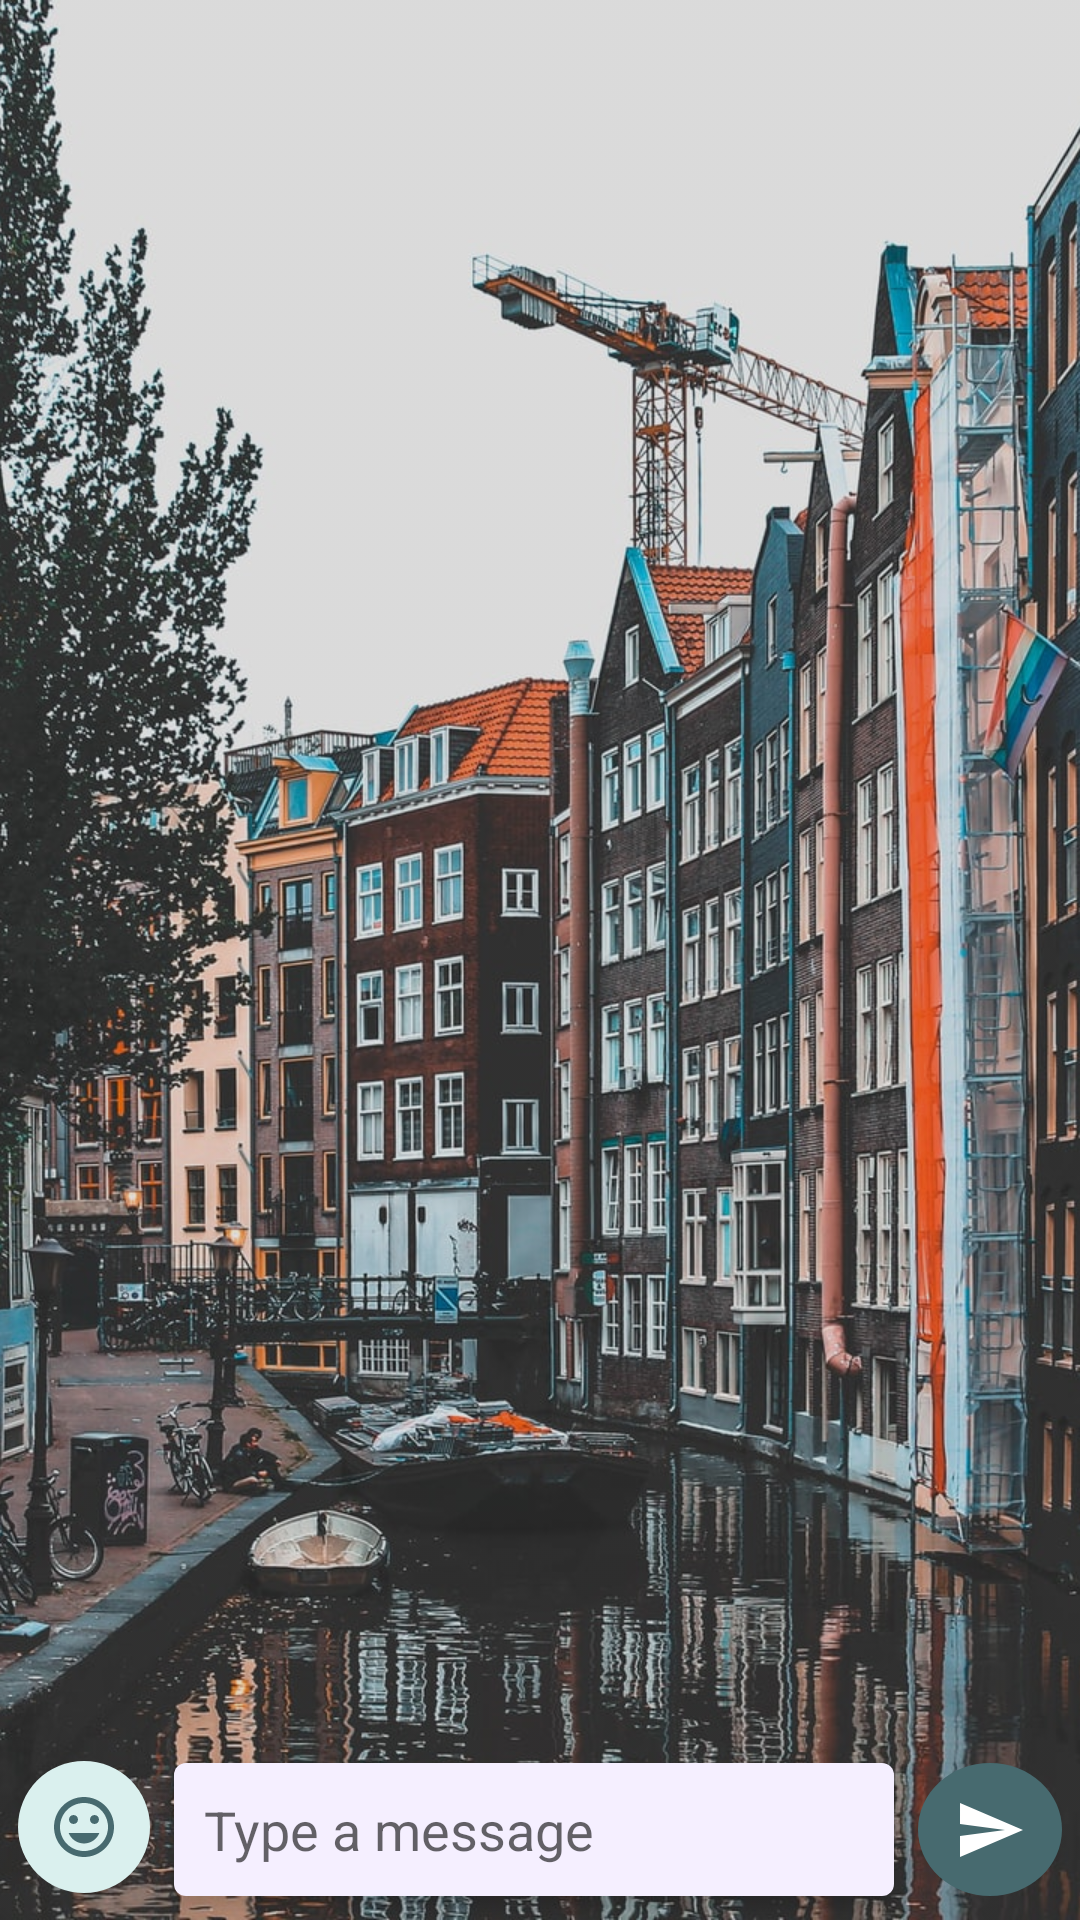

Screen size 1080 x 1920. Icon name, then its center in pixels as (x,y):
Emoticons: (84,1827)
Send Button: (990,1829)
